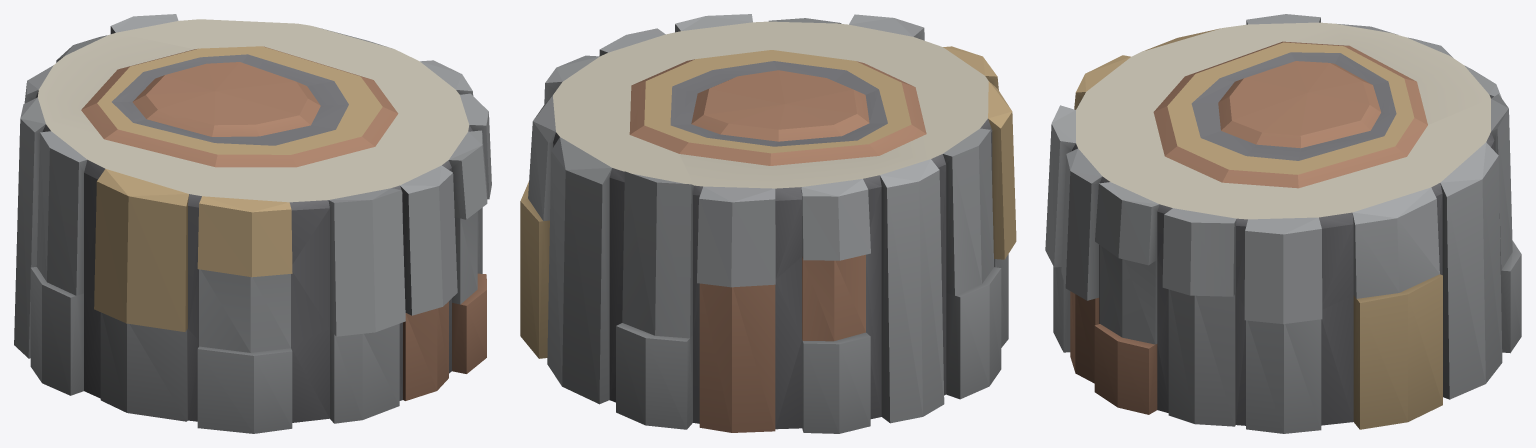
The model's file is petrified.glb.
The picture shows the model from 3 angles, left to right: view 1: azimuth 30°, elevation 25°; view 2: azimuth 150°, elevation 25°; view 3: azimuth 270°, elevation 25°; orthographic projection. The views are drawn at different scales.
Parts seen in each view (by area): view 1: petrified; view 2: petrified; view 3: petrified.
Boxes of the visible parts, x1,y1,x2,y2 form: petrified: (14,14,491,433); petrified: (520,14,1016,433); petrified: (1045,14,1521,433).
Size of the model in its own units: 2.4 by 1.3 by 2.4.
